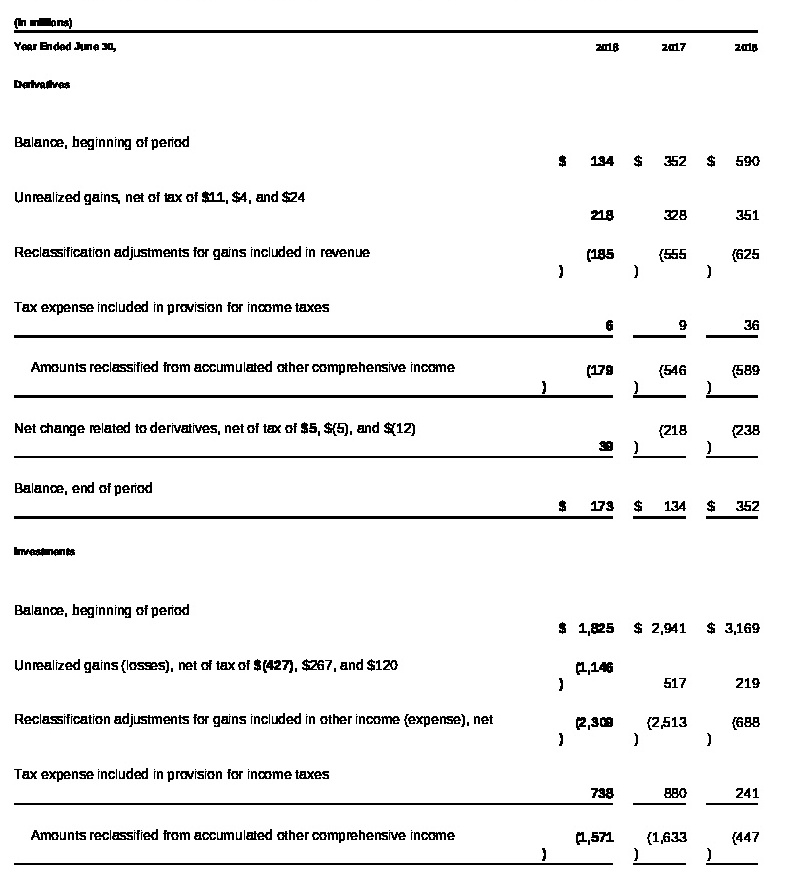table: (0, 0, 787, 887)
